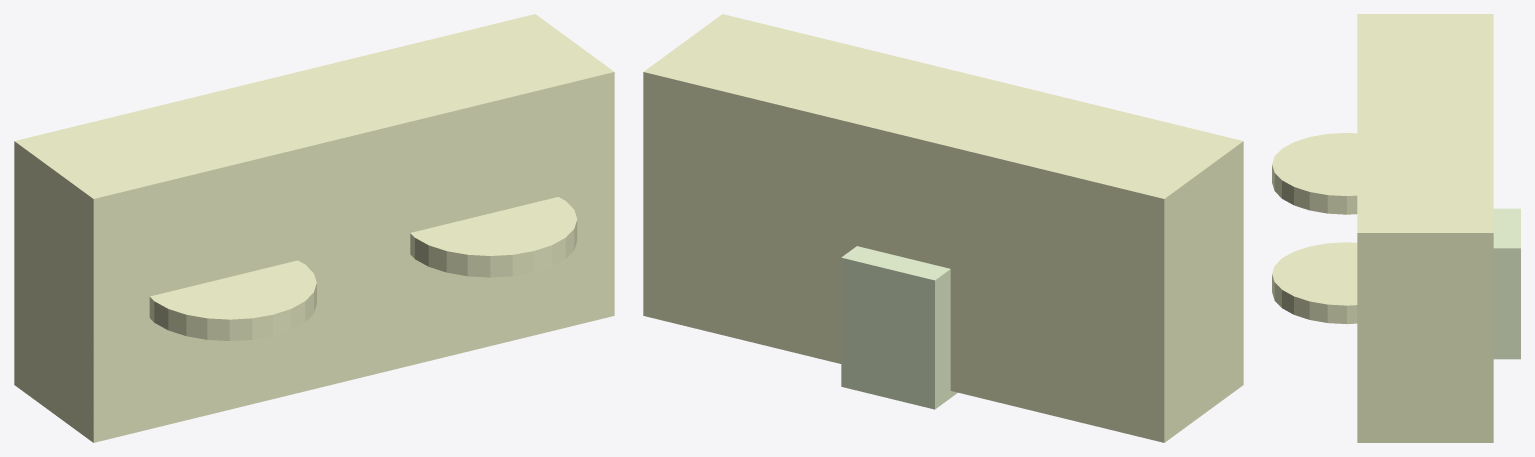
File: signal_warning_dual_amber_horizontal.glb
3 renders of one model, left to right at view 1: azimuth 30°, elevation 25°; view 2: azimuth 150°, elevation 25°; view 3: azimuth 270°, elevation 25°, orthographic. The views are drawn at different scales.
Visible parts, largest first — view 1: housing, lens_warning_right, lens_warning_left; view 2: housing, bracket; view 3: housing, lens_warning_left, lens_warning_right, bracket.
Boxes of the visible parts, x1,y1,x2,y2 form: housing: (14, 14, 614, 442); lens_warning_right: (410, 197, 577, 277); lens_warning_left: (149, 260, 316, 340); housing: (643, 14, 1243, 442); bracket: (841, 246, 957, 409); housing: (1357, 14, 1493, 442); lens_warning_left: (1272, 132, 1357, 214); lens_warning_right: (1272, 242, 1357, 324); bracket: (1493, 208, 1520, 359).
Bounding box in the file's own units: 0.76 × 0.35 × 0.365.
